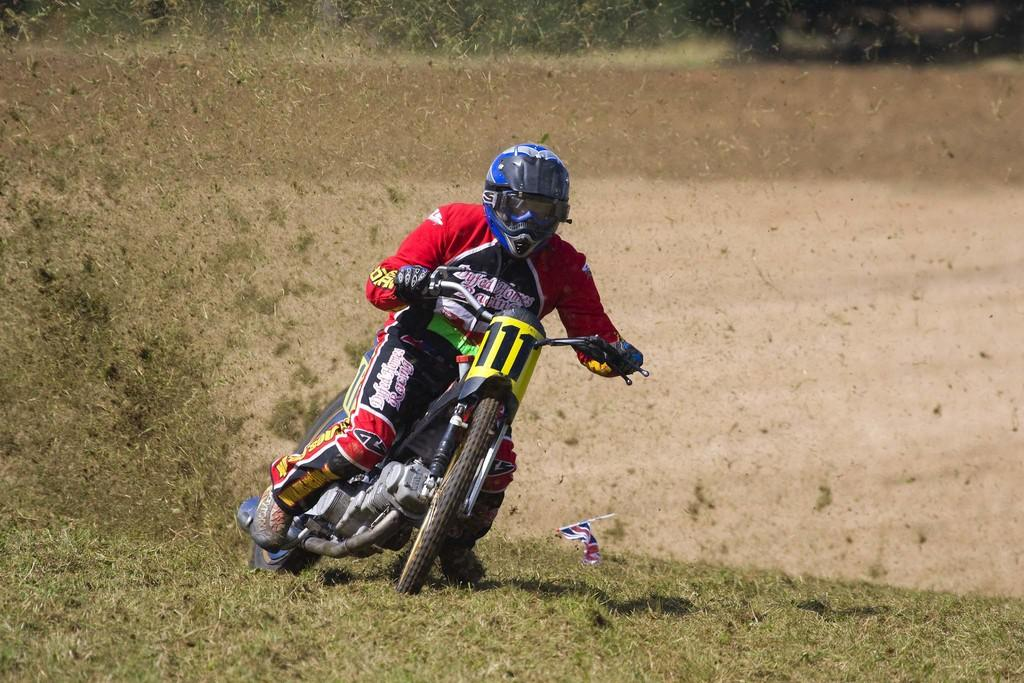helmet: (482, 143, 570, 260)
